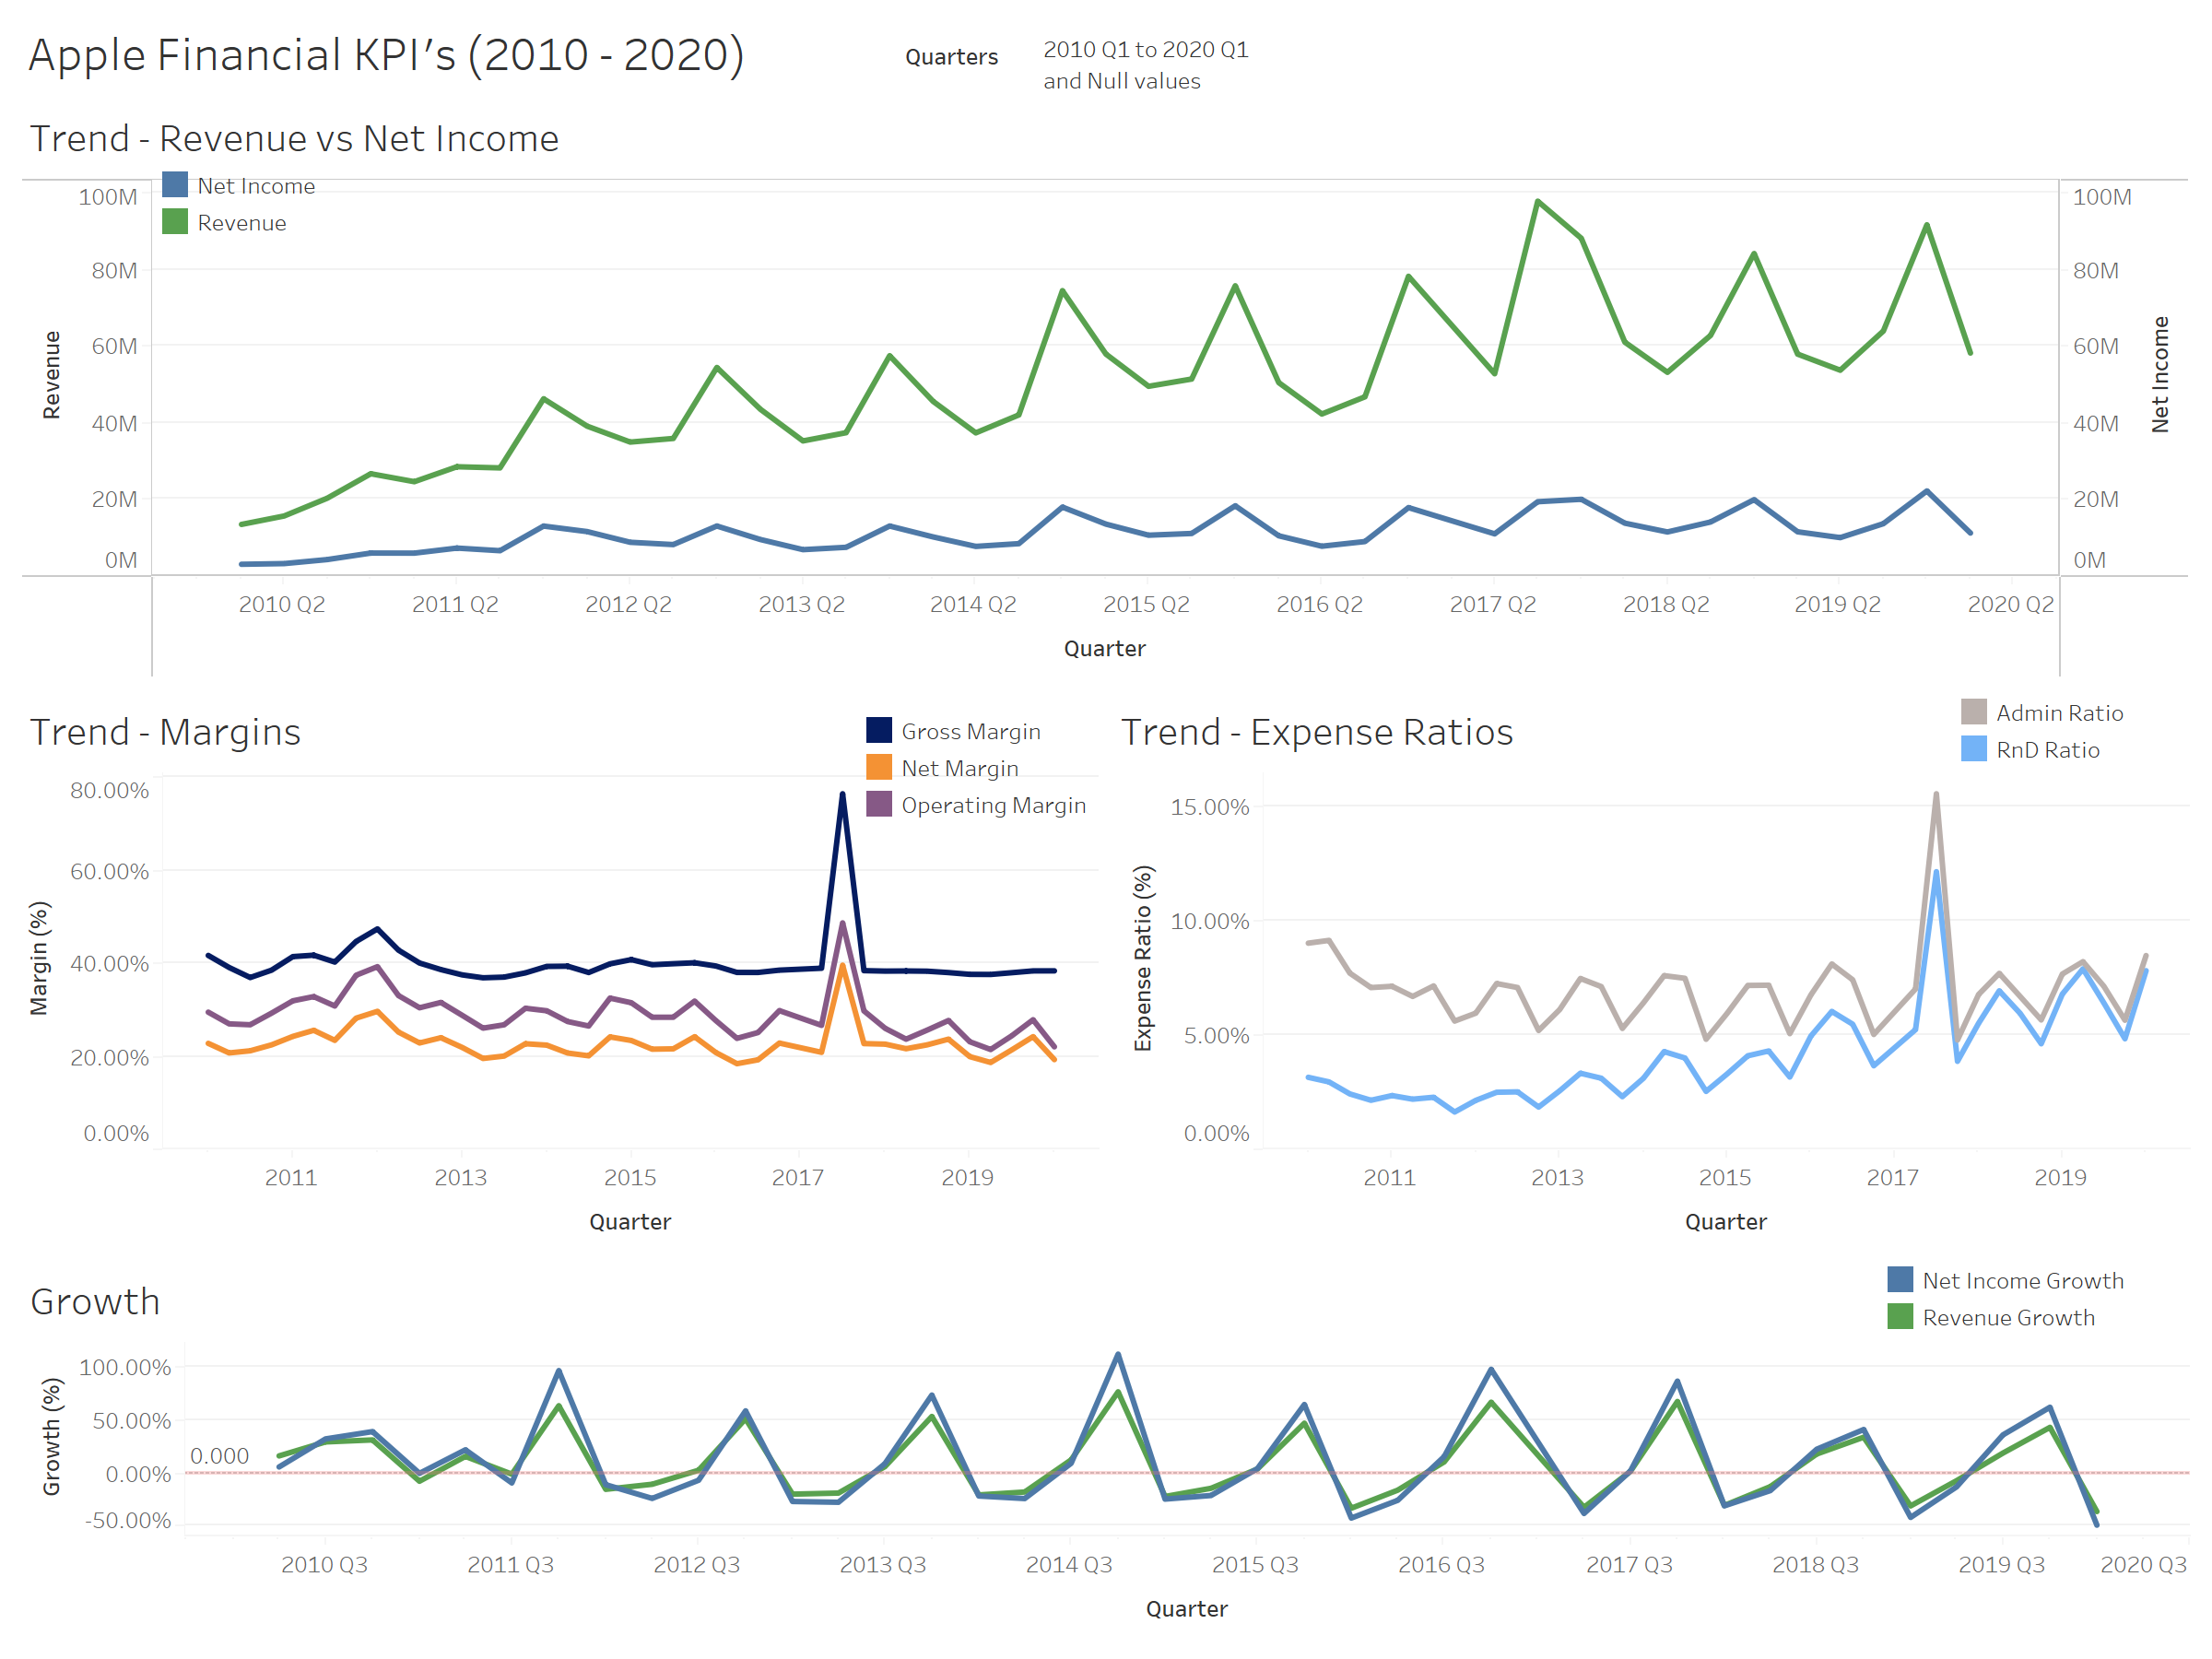

The page's visual inventory and layout, read from the dashboard file:
{"tool":"tableau","page":{"name":"Apple Financial KPI's (2010 - 2020)","canvas":[1200,900],"ordinal":0},"visuals":[{"type":"title","box":[8,8,1184,42]},{"type":"filter","title":"Trend - Revenue vs Net Income","param":"[federated.0ozwlie1m25eg01042pd70rwfeme].[tqr:F1:qk]","box":[491,18,668,24]},{"type":"worksheet","title":"Trend - Revenue vs Net Income","mark":"Line","rows":["revenue","net_income"],"cols":["F1"],"box":[8,50,1184,321.9]},{"type":"legend","title":"Trend - Revenue vs Net Income","param":"[federated.0ozwlie1m25eg01042pd70rwfeme].[:Measure Names]","box":[85,90,141,69]},{"type":"worksheet","title":"Trend - Margins","mark":"Automatic","cols":["F1"],"box":[8,371.9,591.9,309.5]},{"type":"worksheet","title":"Trend - Expense Ratios","mark":"Automatic","cols":["F1"],"box":[599.9,371.9,592.1,309.5]},{"type":"legend","title":"Trend - Expense Ratios","param":"[federated.0ozwlie1m25eg01042pd70rwfeme].[:Measure Names]","box":[1061,376,123,72]},{"type":"legend","title":"Trend - Margins","param":"[federated.0ozwlie1m25eg01042pd70rwfeme].[:Measure Names]","box":[467,386,133,78]},{"type":"worksheet","title":"Growth","mark":"Automatic","cols":["F1"],"box":[8,681.5,1184,210.5]},{"type":"legend","title":"Growth","param":"[federated.0ozwlie1m25eg01042pd70rwfeme].[:Measure Names]","box":[1021,684,159,64]}]}

Visuals, with their boxes in screenshot pixels (x1, y1, x2, y2), scaled from the page's 1200x900 canvas onto the 2212x1659 screenshot:
title: pyautogui.locateOnScreen(15, 15, 2197, 92)
"Trend - Revenue vs Net Income" filter: pyautogui.locateOnScreen(905, 33, 2136, 77)
"Trend - Revenue vs Net Income" worksheet (Line marks): pyautogui.locateOnScreen(15, 92, 2197, 686)
"Trend - Revenue vs Net Income" legend: pyautogui.locateOnScreen(157, 166, 417, 293)
"Trend - Margins" worksheet: pyautogui.locateOnScreen(15, 686, 1106, 1256)
"Trend - Expense Ratios" worksheet: pyautogui.locateOnScreen(1106, 686, 2197, 1256)
"Trend - Expense Ratios" legend: pyautogui.locateOnScreen(1956, 693, 2183, 826)
"Trend - Margins" legend: pyautogui.locateOnScreen(861, 712, 1106, 855)
"Growth" worksheet: pyautogui.locateOnScreen(15, 1256, 2197, 1644)
"Growth" legend: pyautogui.locateOnScreen(1882, 1261, 2175, 1379)
